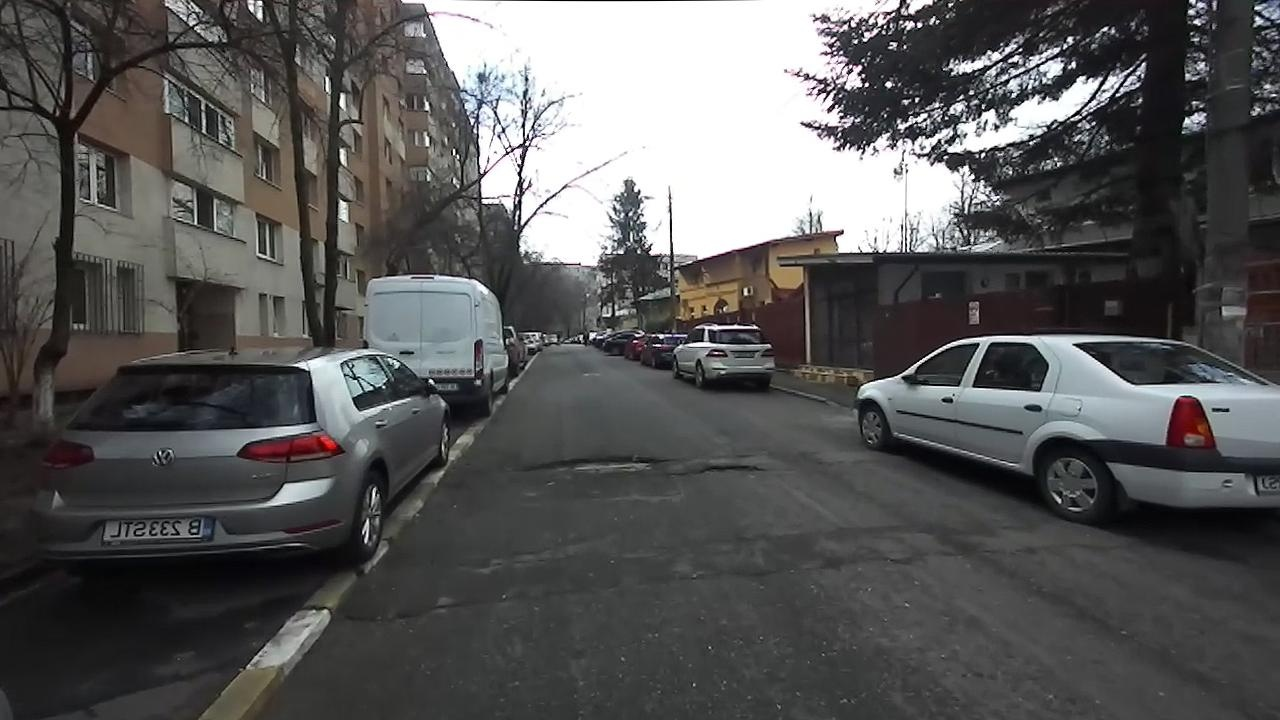pothole: (518, 449, 671, 478), (346, 599, 466, 633), (686, 459, 767, 478)
